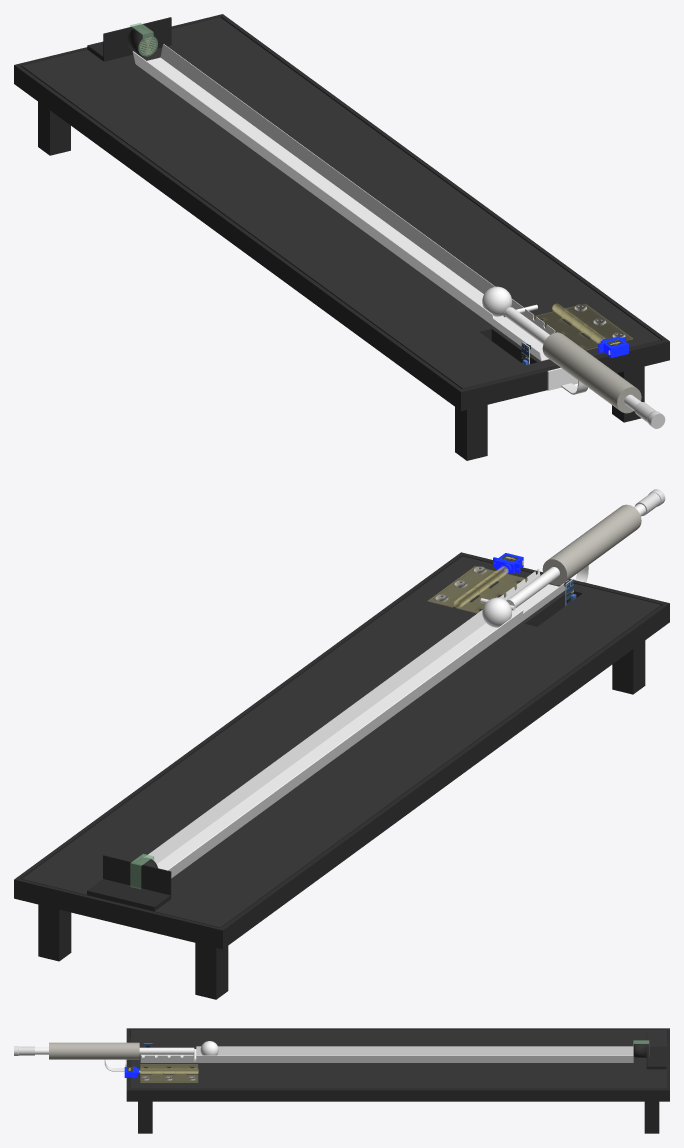
The model's file is riel_newton.glb.
3 renders of one model, top to bottom at view 1: azimuth 30°, elevation 25°; view 2: azimuth 150°, elevation 25°; view 3: azimuth 270°, elevation 25°, orthographic. The views are drawn at different scales.
Parts seen in each view (by area): view 1: Cube.028, Cube.030, Plane.002, Cylinder.001, Cube.034, GONDS_Metal.002, Cylinder.004, Plane.001, Sphere.014; view 2: Cube.028, Cube.030, Plane.002, Cube.034, Cylinder.001, GONDS_Metal.002, Cylinder.004; view 3: Cube.028, Cube.030, Plane.002, Cylinder.001, GONDS_Metal.002, Cylinder.004, Cube.034, Sphere.014.
Part boxes in pixels (<box>): Cube.028: <box>21,17,661,388</box>; Cube.030: <box>14,14,669,460</box>; Plane.002: <box>132,44,557,361</box>; Cylinder.001: <box>542,332,641,413</box>; Cube.034: <box>87,17,171,61</box>; GONDS_Metal.002: <box>534,303,632,350</box>; Cylinder.004: <box>503,304,665,428</box>; Plane.001: <box>547,367,587,394</box>; Sphere.014: <box>482,286,511,316</box>; Cube.028: <box>22,556,661,927</box>; Cube.030: <box>14,552,669,999</box>; Plane.002: <box>146,568,568,878</box>; Cube.034: <box>87,855,171,911</box>; Cylinder.001: <box>542,504,641,585</box>; GONDS_Metal.002: <box>428,566,526,613</box>; Cylinder.004: <box>480,489,665,610</box>; Cube.028: <box>131,1029,666,1088</box>; Cube.030: <box>126,1028,669,1133</box>; Plane.002: <box>140,1046,633,1062</box>; Cylinder.001: <box>49,1042,139,1059</box>; GONDS_Metal.002: <box>140,1064,198,1082</box>; Cylinder.004: <box>14,1046,196,1061</box>; Cube.034: <box>633,1032,666,1069</box>; Sphere.014: <box>200,1041,218,1055</box>.
Size of the model in its own units: 1.58 by 0.7828 by 7.09.
50 materials, 1 textured.
